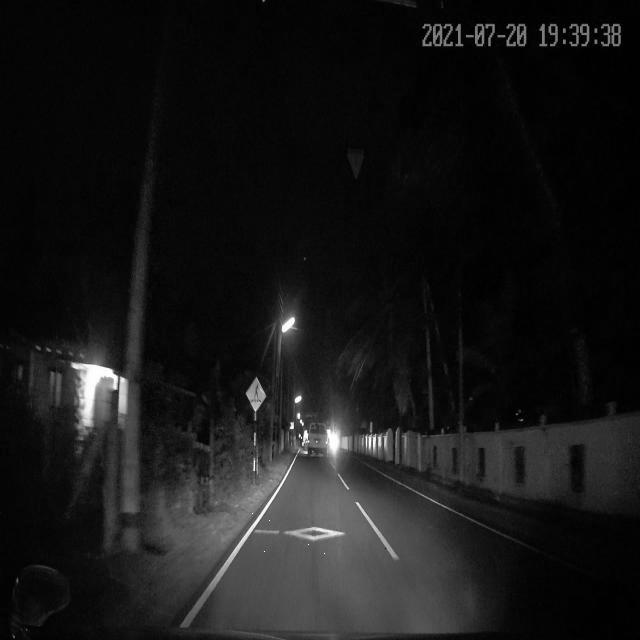diamond: (225, 507, 402, 557)
